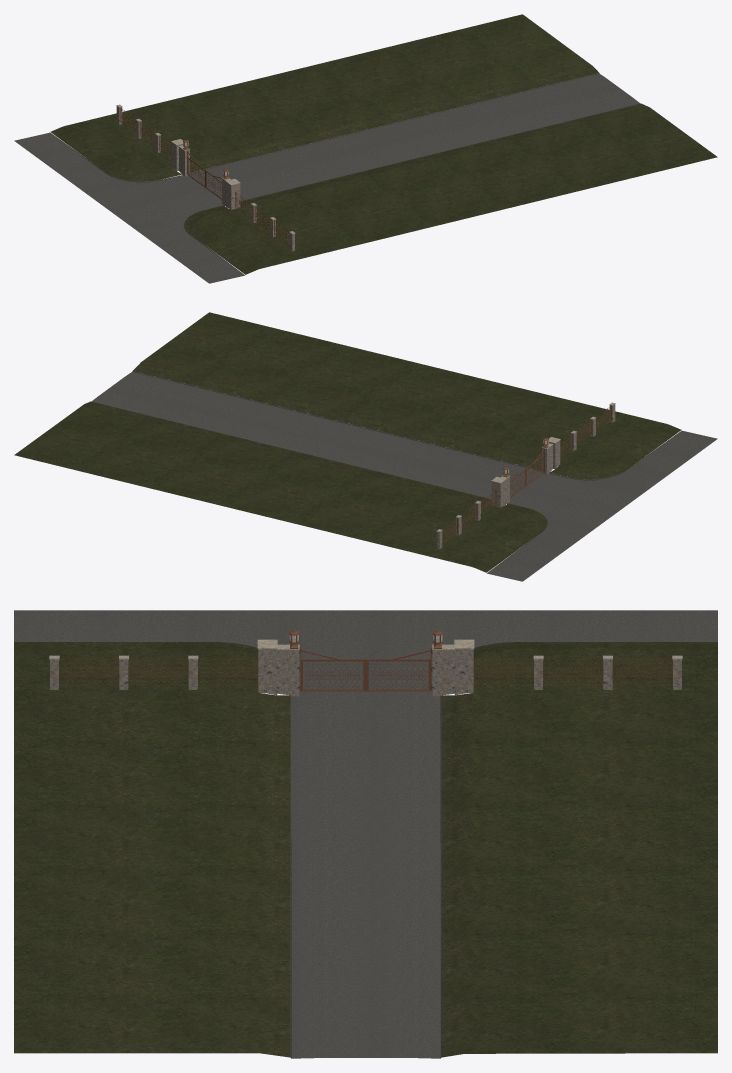
The model's file is environment4.glb.
The picture shows the model from 3 angles, top to bottom: view 1: azimuth 30°, elevation 25°; view 2: azimuth 150°, elevation 25°; view 3: azimuth 270°, elevation 25°; orthographic projection. The views are drawn at different scales.
Visible parts, largest first — view 1: Material2 (×4); view 2: Material2 (×4); view 3: Material2 (×5).
Boxes of the visible parts, x1=… form: Material2 (×4): x1=14, y1=14, x2=717, y2=283; Material2 (×4): x1=14, y1=312, x2=717, y2=581; Material2 (×5): x1=14, y1=610, x2=717, y2=1058.
Size of the model in its own units: 2008 by 132 by 1336.
Materials: 7 (7 with a texture image).
